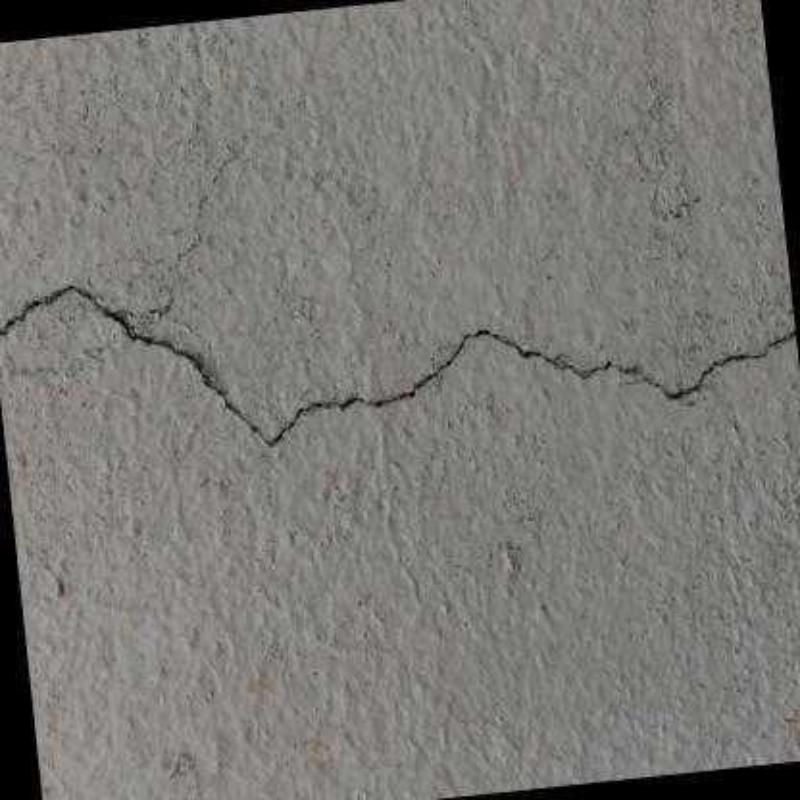pothole: (2, 286, 797, 447)
